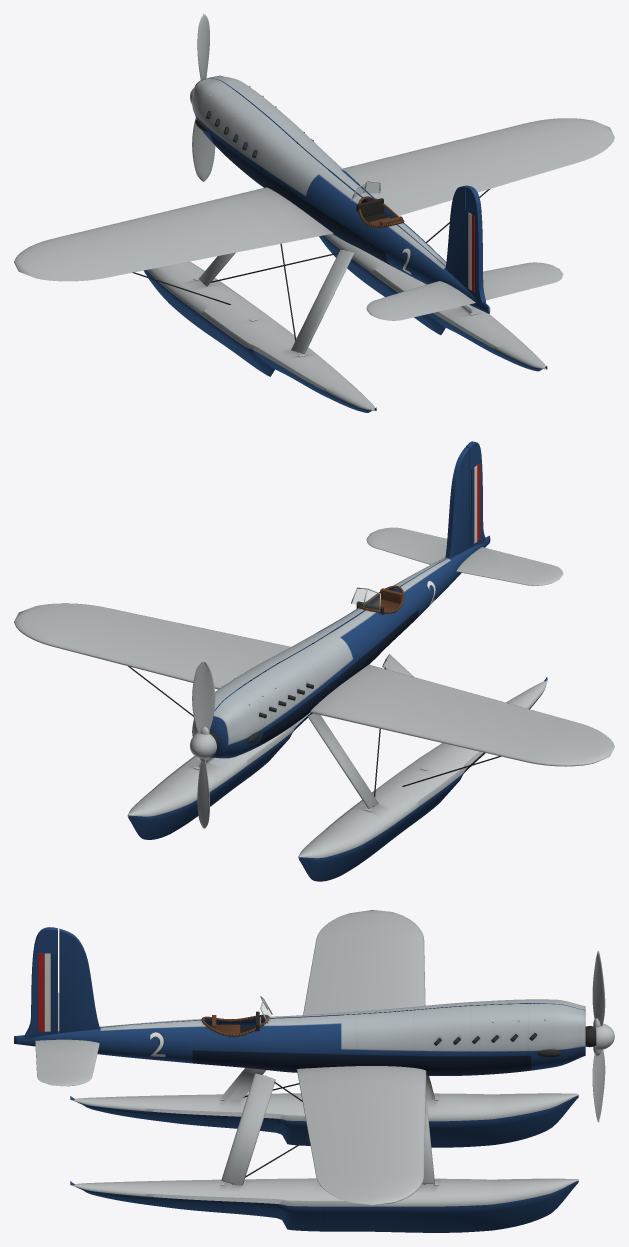
3 renders of one model, top to bottom at view 1: azimuth 30°, elevation 25°; view 2: azimuth 150°, elevation 25°; view 3: azimuth 270°, elevation 25°, orthographic. The views are drawn at different scales.
Visible parts, largest first — view 1: AircraftBody, Port hard-chine stepped float, Starboard hard-chine stepped float, Fitted trailing-edge aileron, Fitted trailing-edge aileron.001, Fitted tailplane elevator, Curved hinged rudder, Twisted propeller blade.001, Twisted propeller blade; view 2: AircraftBody, Port hard-chine stepped float, Starboard hard-chine stepped float, Twisted propeller blade, Fitted trailing-edge aileron, Fitted trailing-edge aileron.001, Curved hinged rudder, Fitted tailplane elevator, Twisted propeller blade.001; view 3: AircraftBody, Starboard hard-chine stepped float, Port hard-chine stepped float, Curved hinged rudder, Fitted trailing-edge aileron.001, Fitted trailing-edge aileron, Twisted propeller blade, Twisted propeller blade.001, Fitted tailplane elevator, Rudder national stripe.003, Rudder national stripe.004, Rudder national stripe.005.
Boxes of the visible parts, x1=… form: AircraftBody: x1=14, y1=75, x2=614, y2=357; Port hard-chine stepped float: x1=143, y1=261, x2=376, y2=412; Starboard hard-chine stepped float: x1=319, y1=234, x2=547, y2=371; Fitted trailing-edge aileron: x1=49, y1=252, x2=177, y2=281; Fitted trailing-edge aileron.001: x1=500, y1=139, x2=609, y2=182; Fitted tailplane elevator: x1=380, y1=273, x2=562, y2=320; Curved hinged rudder: x1=466, y1=186, x2=485, y2=304; Twisted propeller blade.001: x1=192, y1=118, x2=215, y2=181; Twisted propeller blade: x1=197, y1=14, x2=209, y2=79; AircraftBody: x1=14, y1=447, x2=614, y2=811; Port hard-chine stepped float: x1=298, y1=677, x2=547, y2=881; Starboard hard-chine stepped float: x1=127, y1=712, x2=312, y2=839; Twisted propeller blade: x1=192, y1=661, x2=215, y2=733; Fitted trailing-edge aileron: x1=500, y1=704, x2=609, y2=742; Fitted trailing-edge aileron.001: x1=49, y1=603, x2=177, y2=628; Curved hinged rudder: x1=466, y1=441, x2=485, y2=548; Fitted tailplane elevator: x1=380, y1=527, x2=562, y2=574; Twisted propeller blade.001: x1=197, y1=758, x2=209, y2=828; AircraftBody: x1=14, y1=910, x2=596, y2=1205; Starboard hard-chine stepped float: x1=70, y1=1178, x2=578, y2=1232; Port hard-chine stepped float: x1=70, y1=1093, x2=578, y2=1147; Curved hinged rudder: x1=25, y1=927, x2=57, y2=1039; Fitted trailing-edge aileron.001: x1=310, y1=1139, x2=348, y2=1195; Fitted trailing-edge aileron: x1=310, y1=918, x2=348, y2=975; Twisted propeller blade: x1=592, y1=950, x2=605, y2=1025; Twisted propeller blade.001: x1=592, y1=1050, x2=605, y2=1122; Fitted tailplane elevator: x1=35, y1=1040, x2=53, y2=1084; Rudder national stripe.003: x1=51, y1=953, x2=57, y2=1031; Rudder national stripe.004: x1=44, y1=953, x2=50, y2=1031; Rudder national stripe.005: x1=38, y1=953, x2=44, y2=1031.
Bounding box in the file's own units: 9.14 × 3.79 × 7.86.
Materials: 10 (2 with a texture image).
